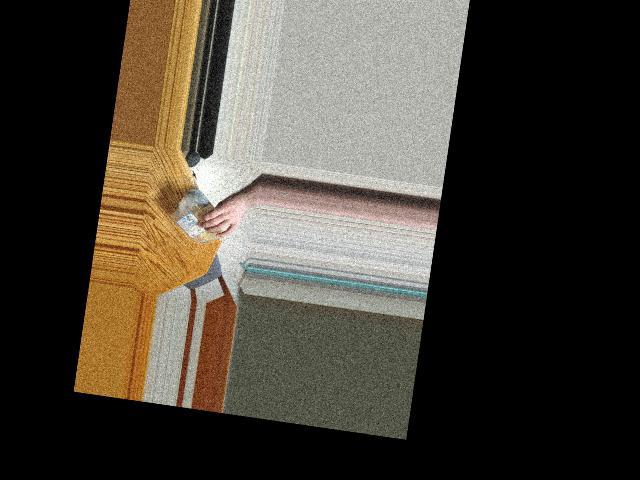cheese: (166, 188, 239, 249)
